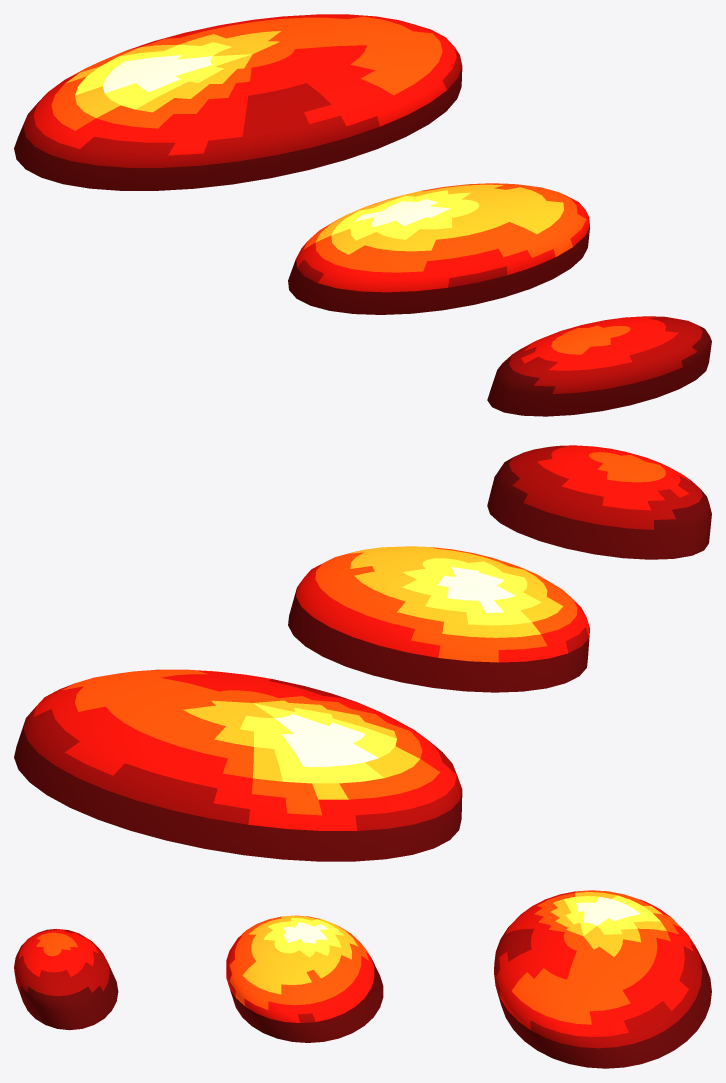
Rendered from ixm_boss_lamps_207.glb.
3 renders of one model, top to bottom at view 1: azimuth 30°, elevation 25°; view 2: azimuth 150°, elevation 25°; view 3: azimuth 270°, elevation 25°, orthographic. The views are drawn at different scales.
Parts seen in each view (by area): view 1: ixm_boss_lamps_207_0, ixm_boss_lamps_207_1, ixm_boss_lamps_207_2; view 2: ixm_boss_lamps_207_0, ixm_boss_lamps_207_1, ixm_boss_lamps_207_2; view 3: ixm_boss_lamps_207_0, ixm_boss_lamps_207_1, ixm_boss_lamps_207_2.
Boxes of the visible parts, x1=… form: ixm_boss_lamps_207_0: x1=14, y1=14, x2=462, y2=190; ixm_boss_lamps_207_1: x1=288, y1=183, x2=589, y2=314; ixm_boss_lamps_207_2: x1=487, y1=316, x2=711, y2=416; ixm_boss_lamps_207_0: x1=14, y1=669, x2=462, y2=861; ixm_boss_lamps_207_1: x1=288, y1=546, x2=589, y2=692; ixm_boss_lamps_207_2: x1=487, y1=445, x2=711, y2=559; ixm_boss_lamps_207_0: x1=494, y1=890, x2=711, y2=1068; ixm_boss_lamps_207_1: x1=226, y1=915, x2=383, y2=1042; ixm_boss_lamps_207_2: x1=14, y1=929, x2=118, y2=1030.
Size of the model in its own units: 12.24 by 2.05 by 23.44.
